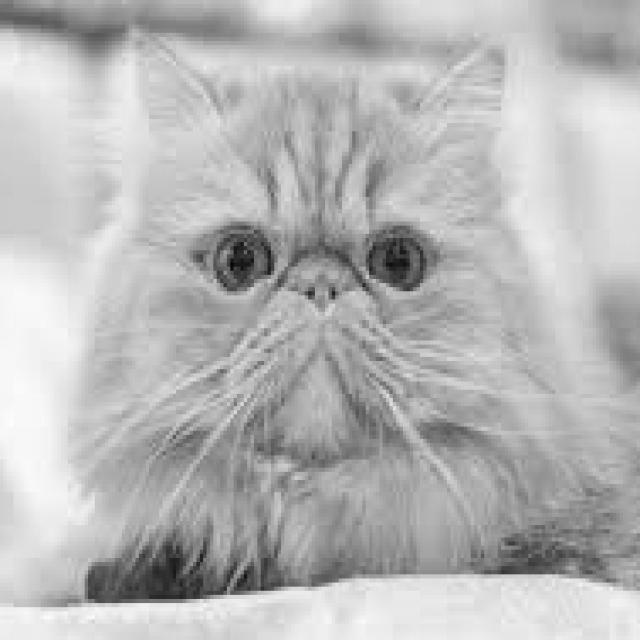iran: (167, 140, 492, 476)
